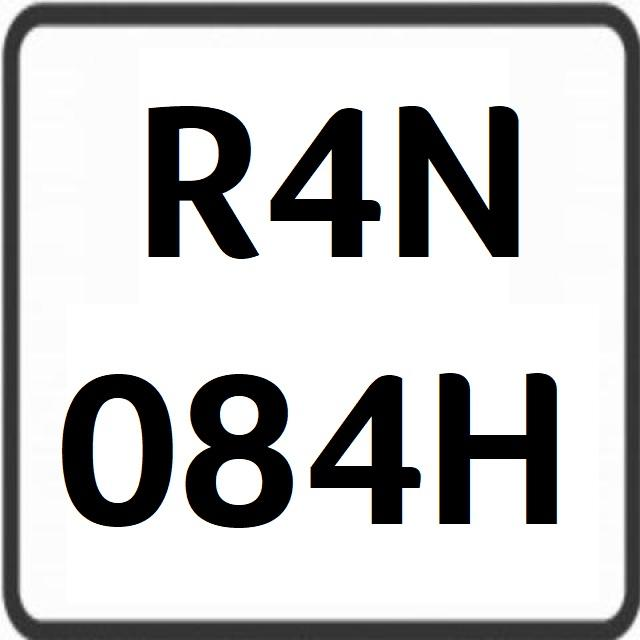0: (60, 354, 180, 528)
4: (310, 343, 428, 541)
8: (182, 359, 297, 535)
H: (429, 343, 564, 548)
N: (394, 73, 525, 266)
R: (130, 91, 260, 278)
